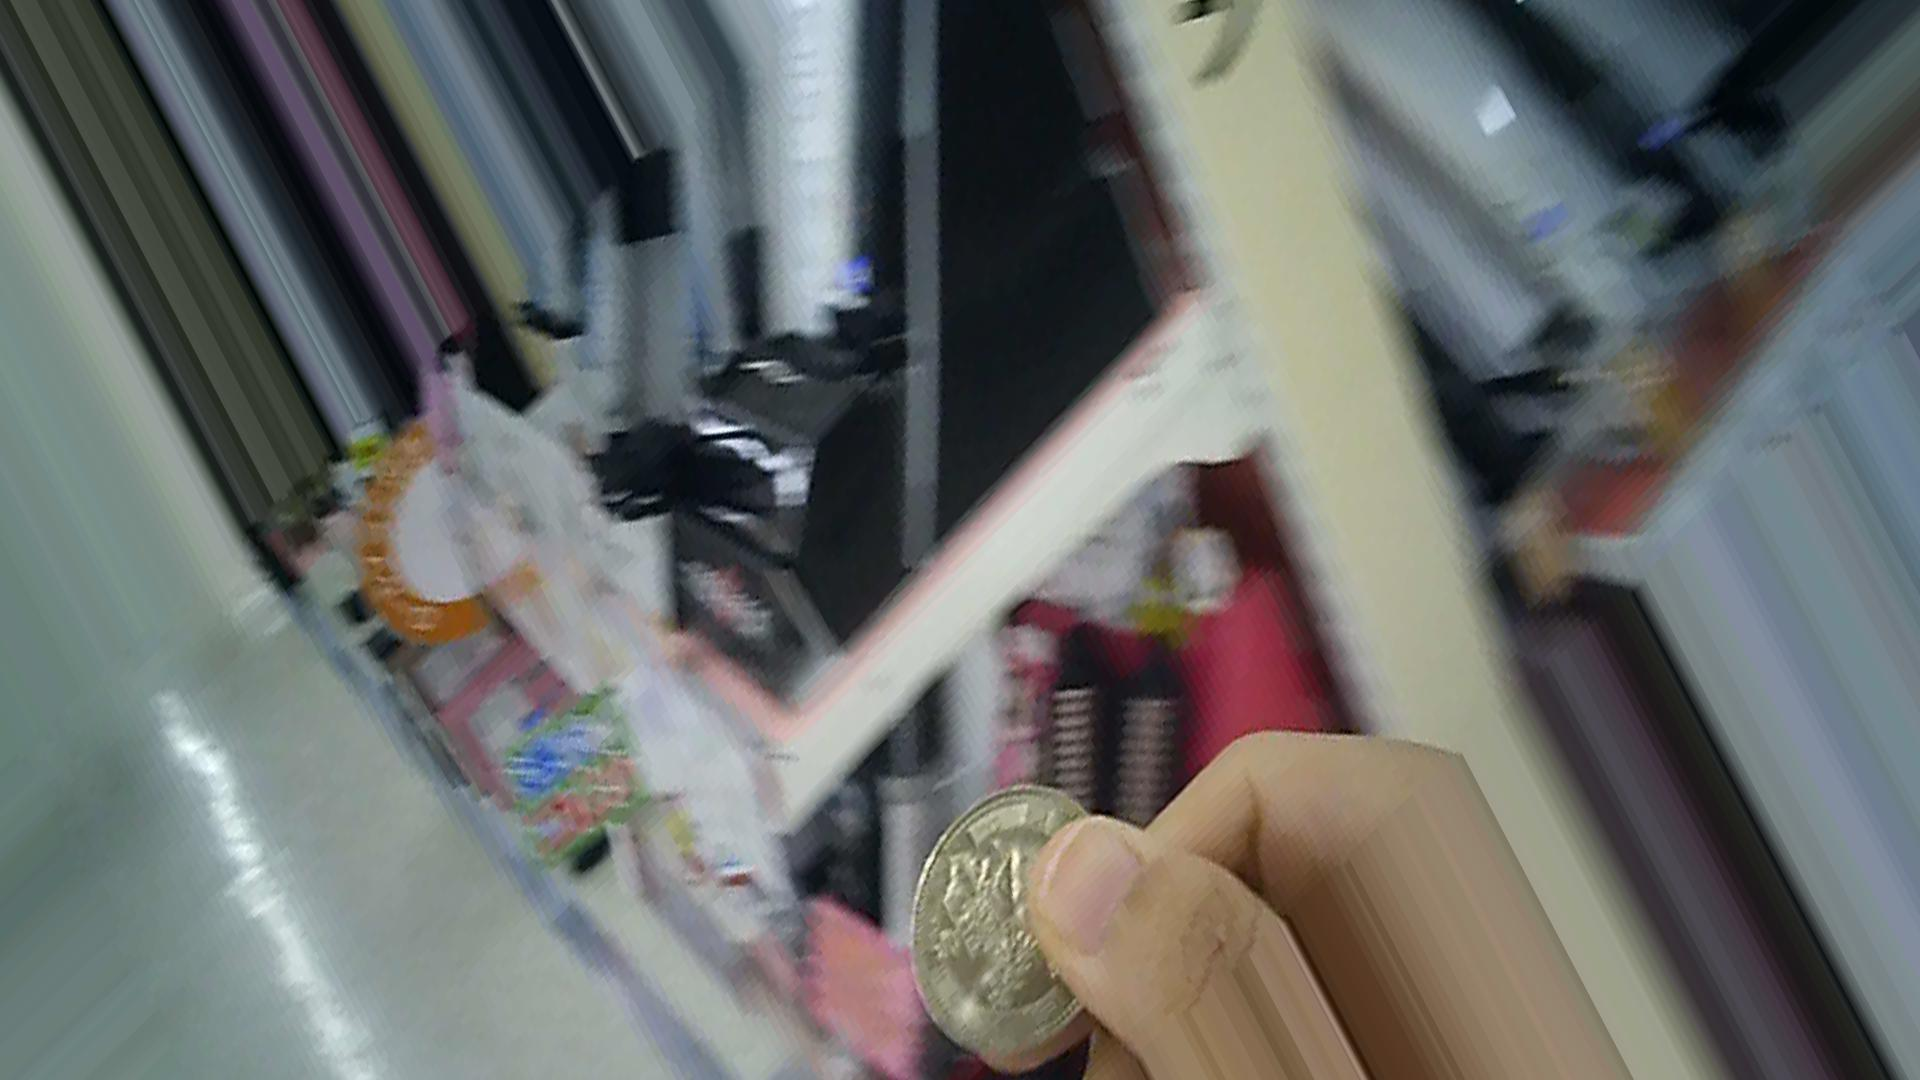500 Yen: (906, 787, 1114, 1042)
